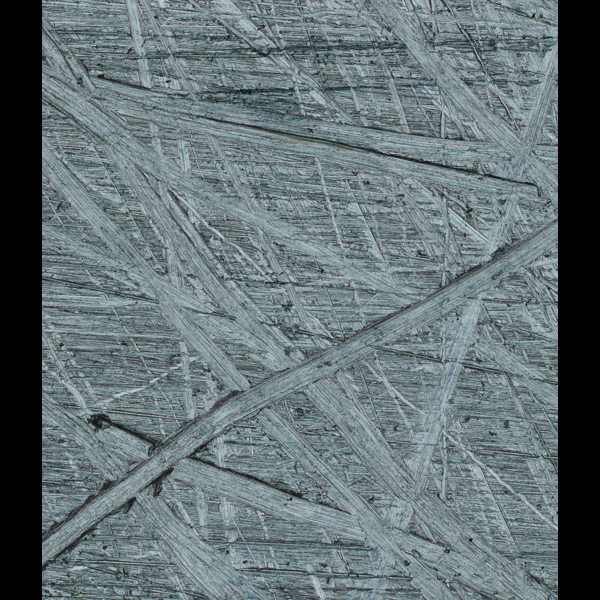d: (44, 5, 557, 595)
